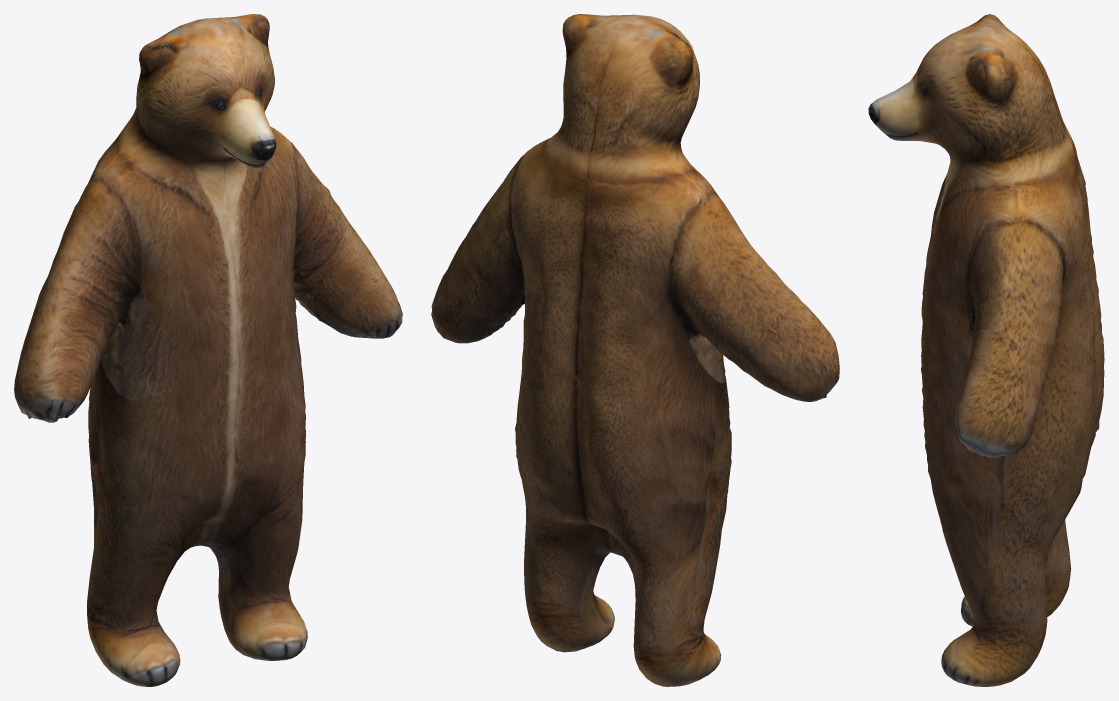
Rendered from Bear character.glb.
The picture shows the model from 3 angles, left to right: view 1: azimuth 30°, elevation 25°; view 2: azimuth 150°, elevation 25°; view 3: azimuth 270°, elevation 25°; orthographic projection. The views are drawn at different scales.
Parts seen in each view (by area): view 1: Mesh_0; view 2: Mesh_0; view 3: Mesh_0.
Boxes of the visible parts, x1=… form: Mesh_0: x1=14, y1=14, x2=402, y2=686; Mesh_0: x1=431, y1=14, x2=839, y2=686; Mesh_0: x1=868, y1=14, x2=1104, y2=686.
Size of the model in its own units: 0.7515 by 1.2 by 0.4125.
Materials: 1 (1 with a texture image).
